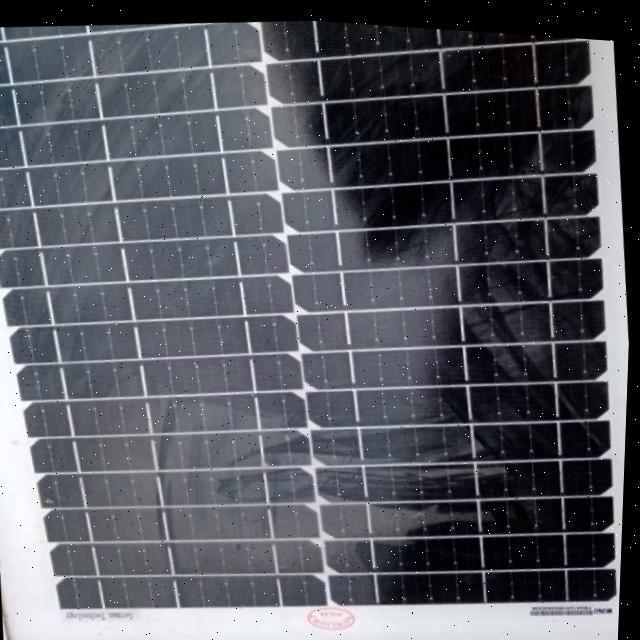Surface Contaminant: (2, 96, 411, 622)
